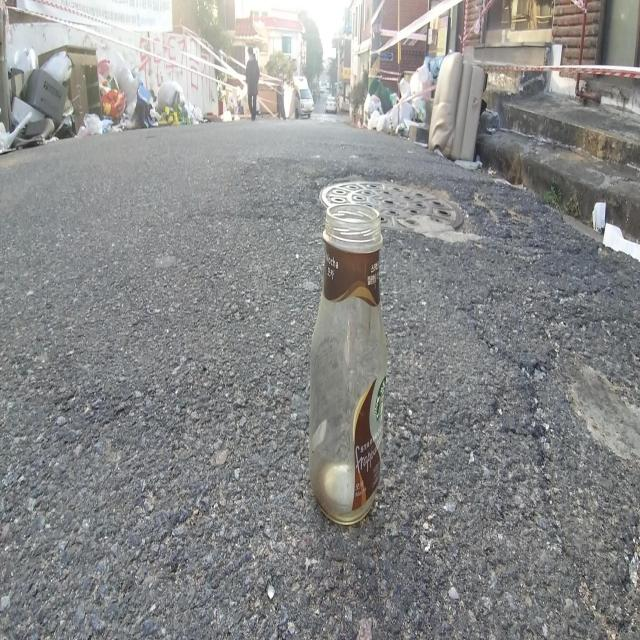glass: (309, 202, 387, 524)
